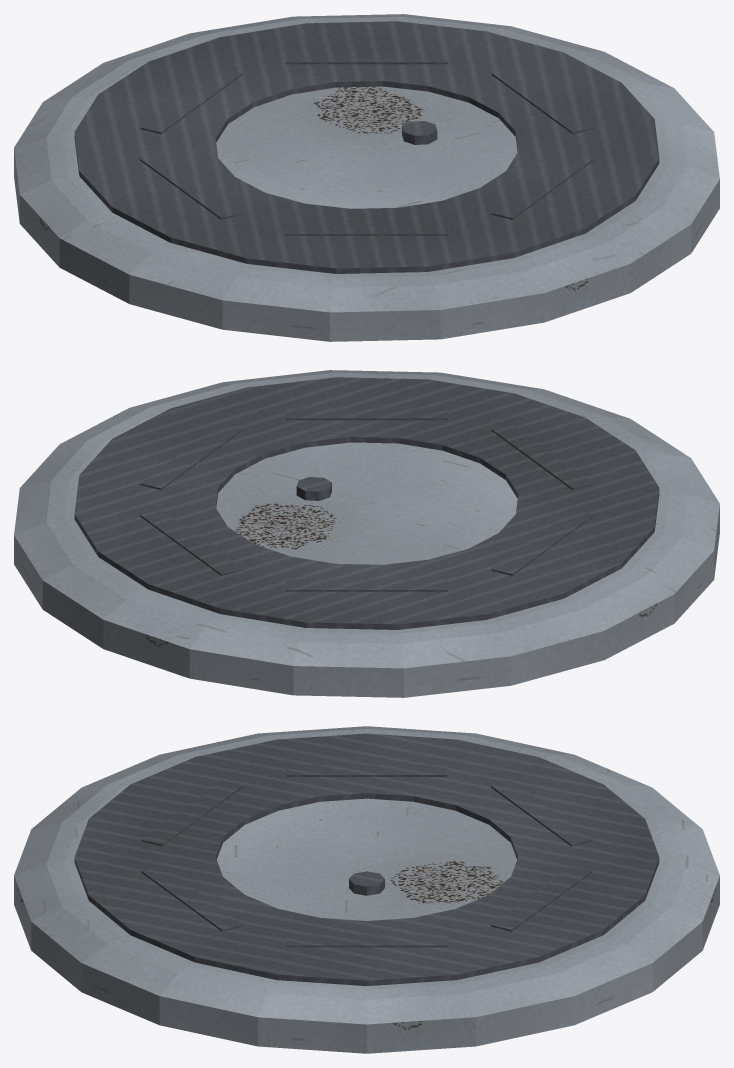
The model's file is manhole_v4.glb.
The picture shows the model from 3 angles, top to bottom: view 1: azimuth 30°, elevation 25°; view 2: azimuth 150°, elevation 25°; view 3: azimuth 270°, elevation 25°; orthographic projection.
Visible parts, largest first — view 1: Variant_manhole_4; view 2: Variant_manhole_4; view 3: Variant_manhole_4.
Boxes of the visible parts, bbox=[...] form: Variant_manhole_4: bbox=[14, 14, 719, 341]; Variant_manhole_4: bbox=[14, 370, 719, 697]; Variant_manhole_4: bbox=[14, 726, 719, 1053].
Size of the model in its own units: 0.7 by 0.056 by 0.7.
Materials: 2 (2 with a texture image).
